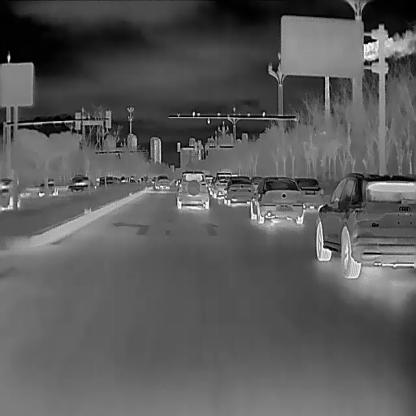car: (314, 171, 415, 278), (250, 174, 306, 223), (175, 170, 210, 210), (292, 175, 324, 209), (223, 175, 257, 206), (0, 175, 19, 209), (210, 172, 234, 198), (65, 174, 94, 192), (37, 176, 58, 196), (152, 173, 170, 189)
